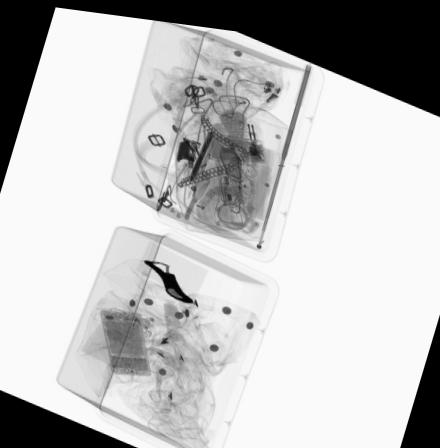Powerbank: (206, 126, 255, 162)
